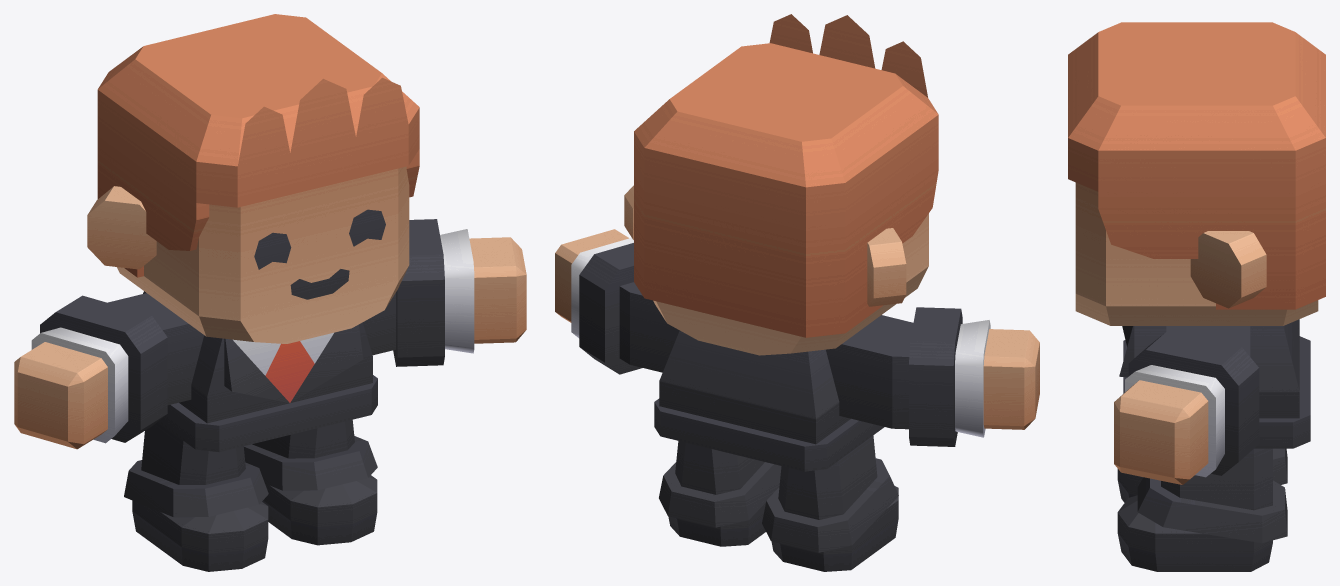
Rendered from player_model.glb.
The picture shows the model from 3 angles, left to right: view 1: azimuth 30°, elevation 25°; view 2: azimuth 150°, elevation 25°; view 3: azimuth 270°, elevation 25°; orthographic projection. The views are drawn at different scales.
Visible parts, largest first — view 1: head-mesh, body-mesh; view 2: head-mesh, body-mesh; view 3: head-mesh, body-mesh.
Part boxes in pixels (x1=…): head-mesh: x1=87, y1=14, x2=419, y2=343; body-mesh: x1=14, y1=219, x2=526, y2=571; head-mesh: x1=624, y1=14, x2=938, y2=355; body-mesh: x1=555, y1=229, x2=1039, y2=571; head-mesh: x1=1068, y1=22, x2=1325, y2=325; body-mesh: x1=1114, y1=319, x2=1310, y2=571.
Bounding box in the file's own units: 0.7672 × 0.7218 × 0.34.
Materials: 1 (1 with a texture image).
